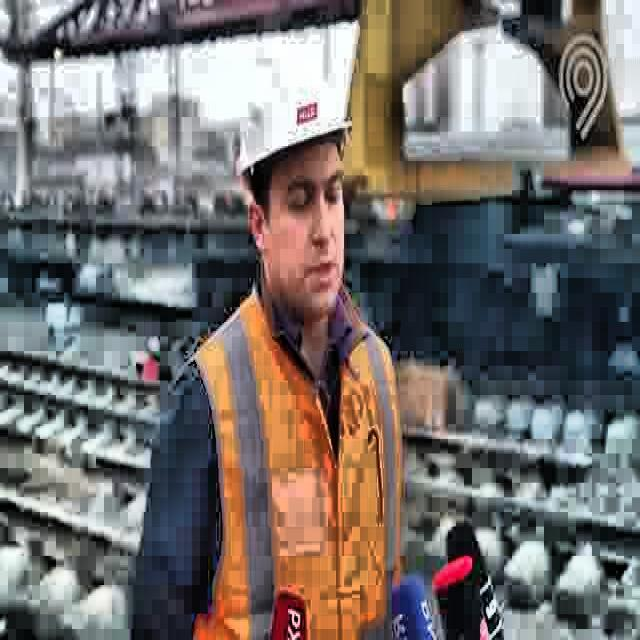safety_helmet: (233, 44, 356, 177)
safety_jacket: (172, 280, 404, 640)
